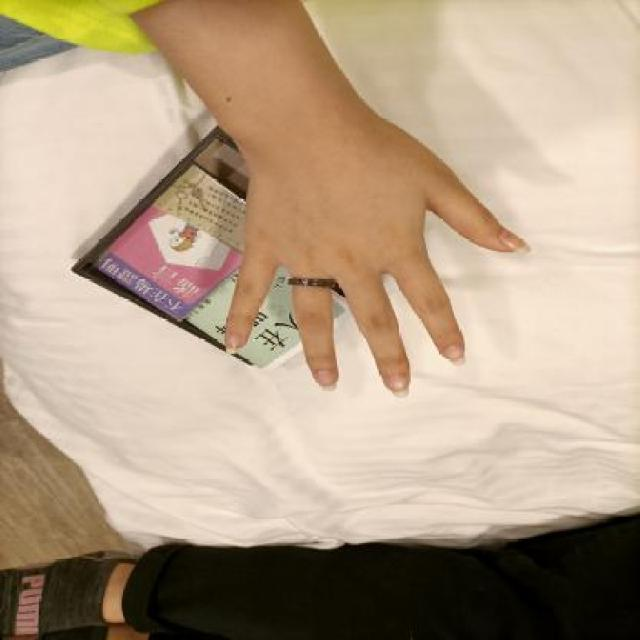bare_hand: (204, 91, 544, 418)
